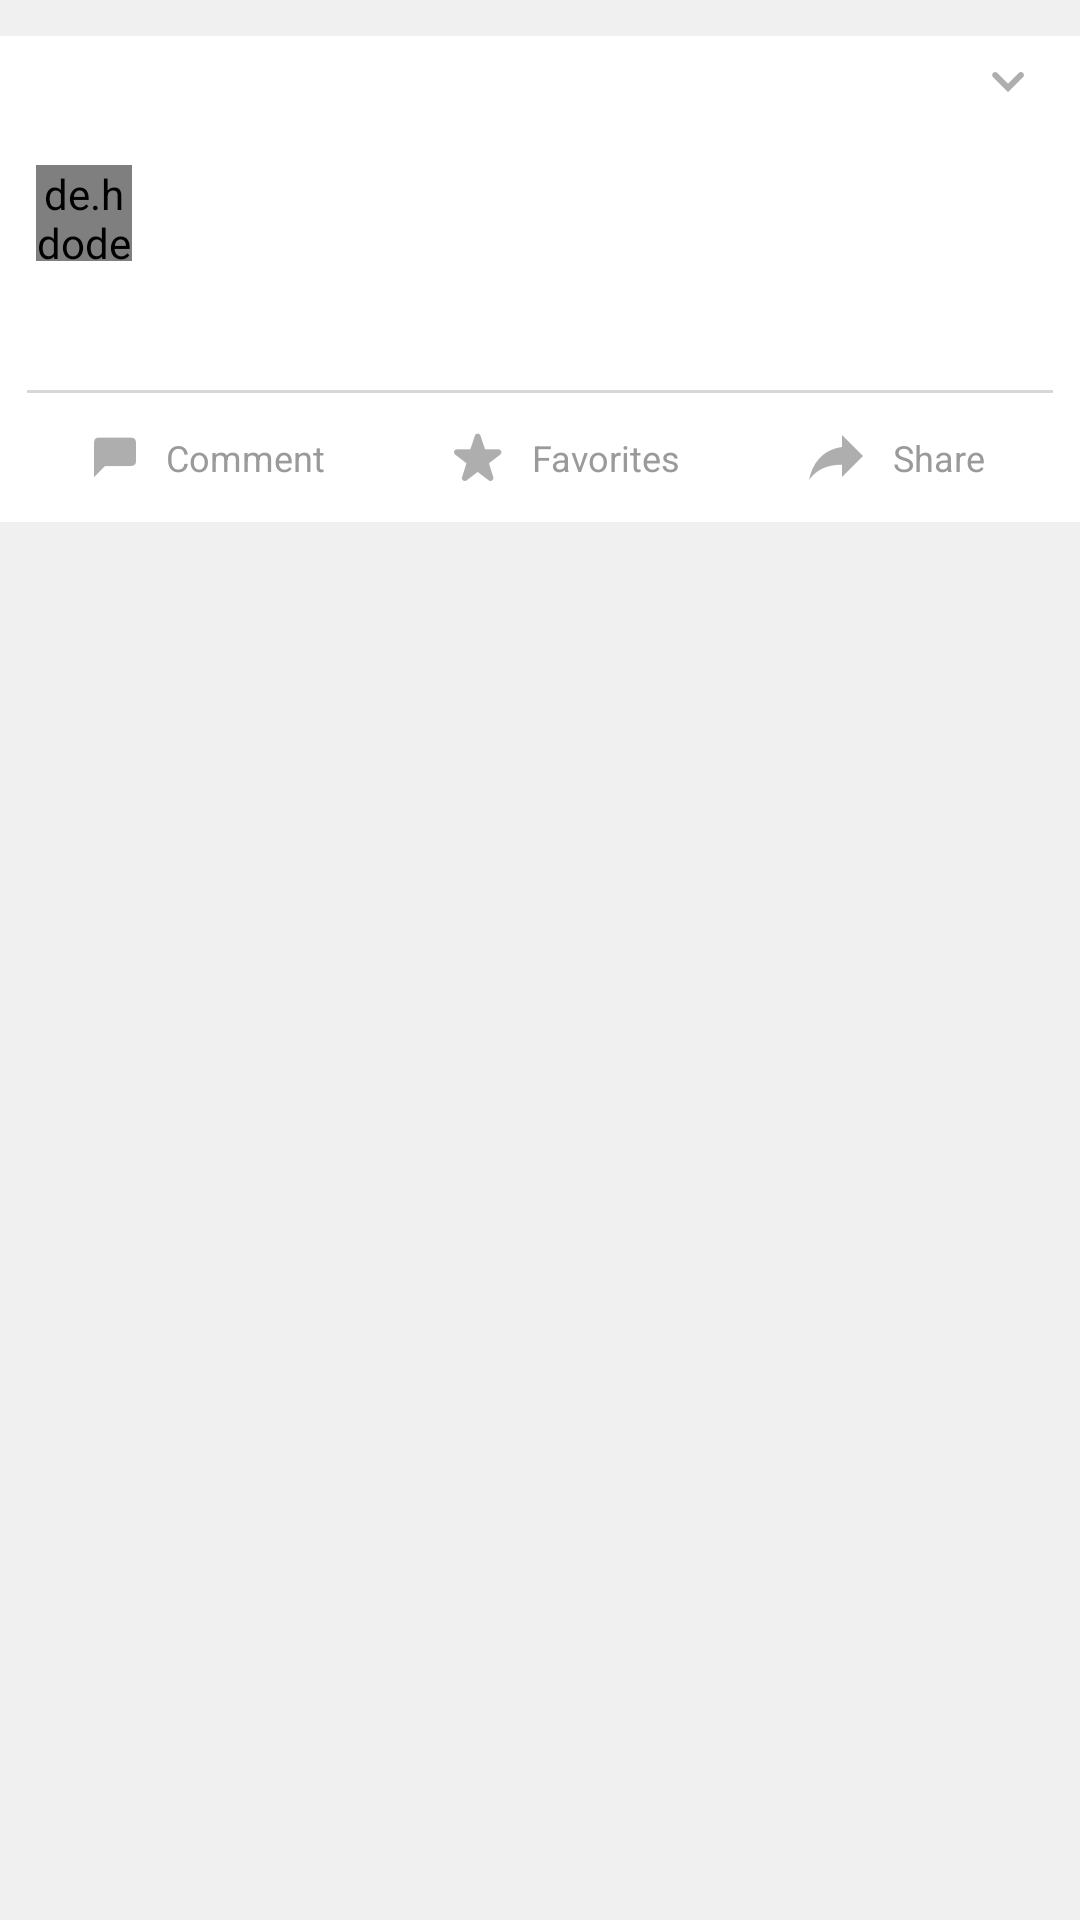

Icons on this 1080 x 1920 Android screen, each with the point to tap as [x,y]:
star off: [478,457]
